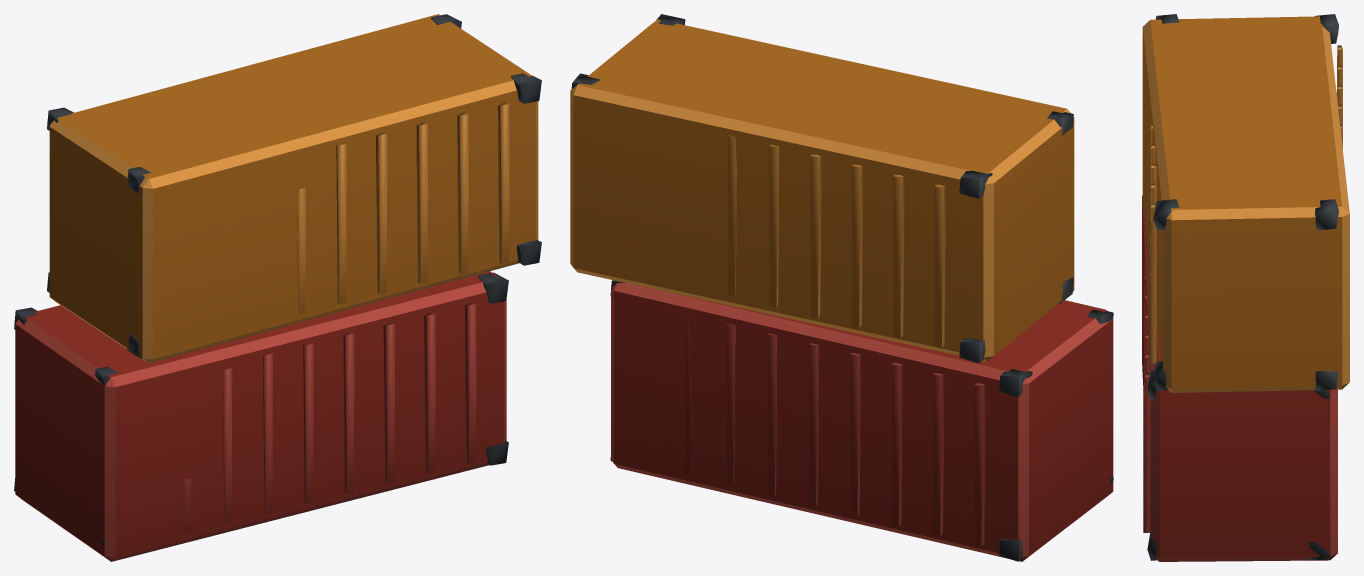
File: container-stack-v1.lod2.glb
3 views of the same model, side by side, from view 1: azimuth 30°, elevation 25°; view 2: azimuth 150°, elevation 25°; view 3: azimuth 270°, elevation 25° (orthographic). The views are drawn at different scales.
Parts seen in each view (by area): view 1: container-stack-v1.lod2; view 2: container-stack-v1.lod2; view 3: container-stack-v1.lod2.
Boxes of the visible parts, x1,y1,x2,y2 form: container-stack-v1.lod2: [14, 14, 541, 561]; container-stack-v1.lod2: [570, 14, 1113, 561]; container-stack-v1.lod2: [1142, 14, 1349, 561].
Bounding box in the file's own units: 6.6 × 5.29 × 2.67.
